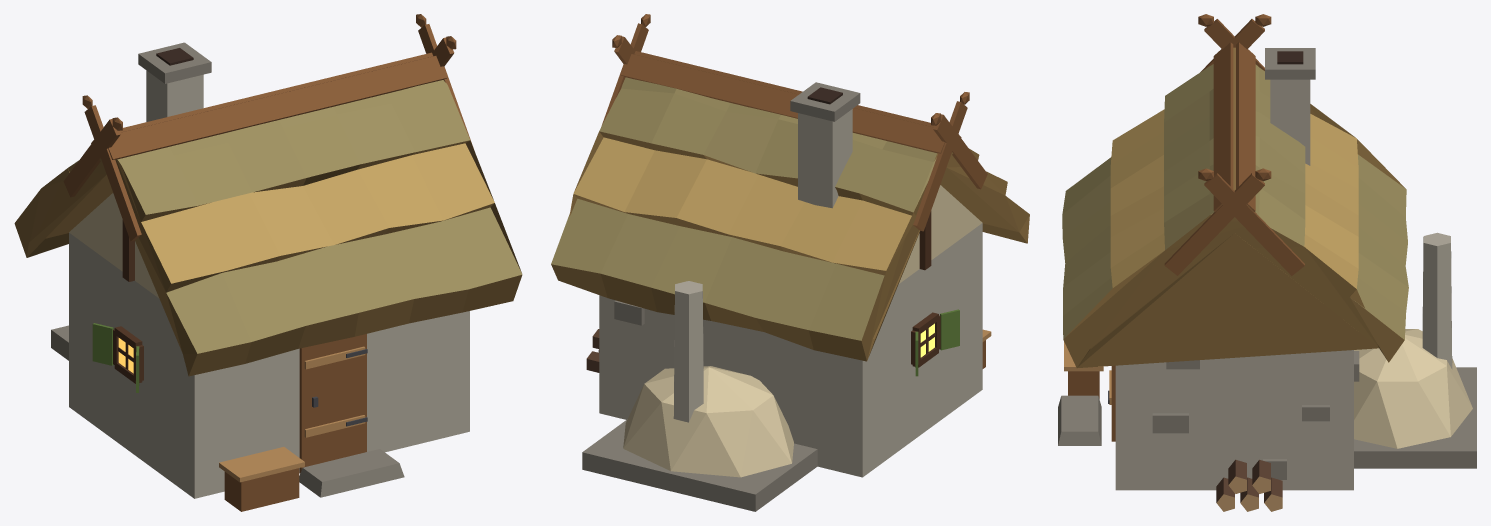
Rendered from Dorf_Backhaus.fbx.
3 views of the same model, side by side, from view 1: azimuth 30°, elevation 25°; view 2: azimuth 150°, elevation 25°; view 3: azimuth 270°, elevation 25° (orthographic). The views are drawn at different scales.
Parts seen in each view (by area): view 1: Dorf_Backhaus; view 2: Dorf_Backhaus; view 3: Dorf_Backhaus.
Part boxes in pixels (x1,y1,x2,y2): Dorf_Backhaus: [14, 14, 522, 511]; Dorf_Backhaus: [551, 14, 1029, 511]; Dorf_Backhaus: [1058, 14, 1476, 511].
Size of the model in its own units: 4.94 by 4.72 by 5.28.
